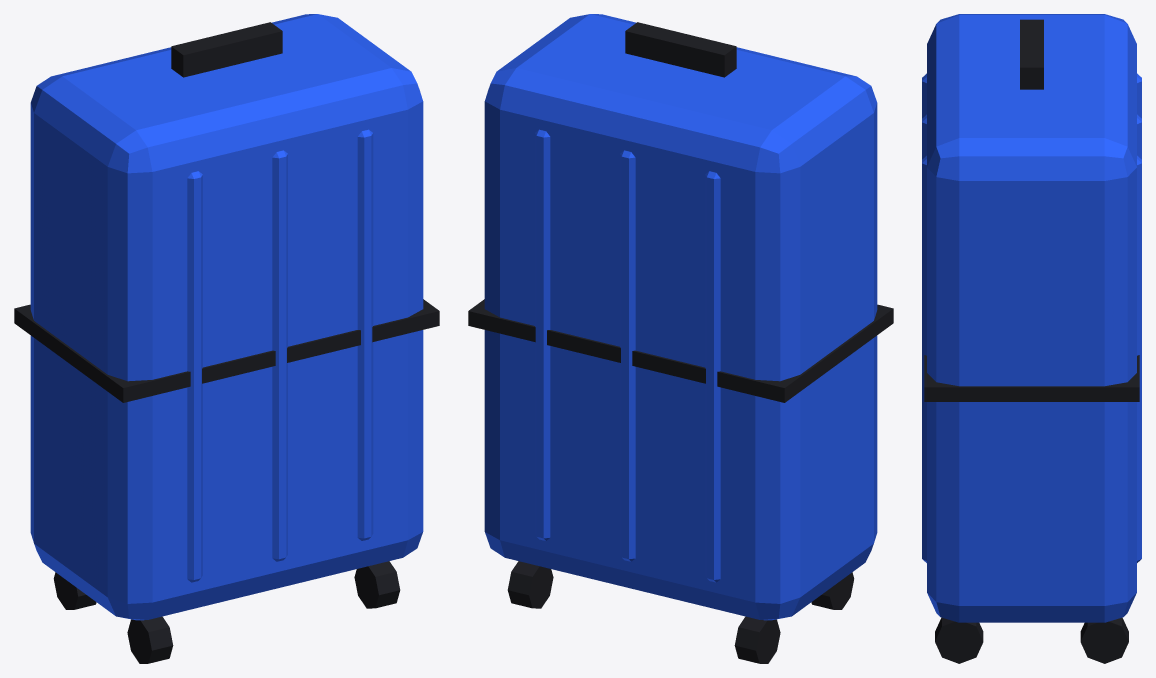
Rendered from case_blue.glb.
The picture shows the model from 3 angles, left to right: view 1: azimuth 30°, elevation 25°; view 2: azimuth 150°, elevation 25°; view 3: azimuth 270°, elevation 25°; orthographic projection.
Parts seen in each view (by area): view 1: Cube; view 2: Cube; view 3: Cube.
Part boxes in pixels (bbox=[...]): Cube: bbox=[14, 14, 439, 663]; Cube: bbox=[468, 14, 893, 663]; Cube: bbox=[922, 14, 1141, 663].
Bounding box in the file's own units: 0.446 × 0.765 × 0.272.
